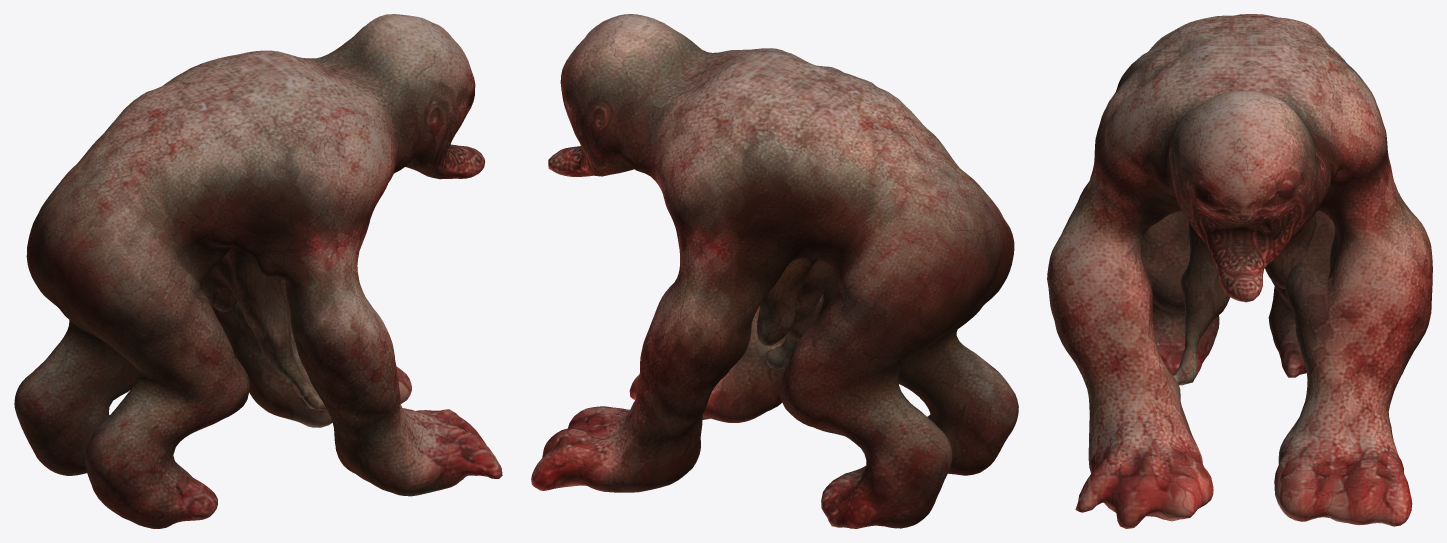
The model's file is monster_zombie2.glb.
3 views of the same model, side by side, from view 1: azimuth 30°, elevation 25°; view 2: azimuth 150°, elevation 25°; view 3: azimuth 270°, elevation 25° (orthographic).
Parts seen in each view (by area): view 1: Mesh1; view 2: Mesh1; view 3: Mesh1.
Boxes of the visible parts, left/top/right/bottom form: Mesh1: left=14, top=14, right=502, bottom=528; Mesh1: left=531, top=14, right=1018, bottom=528; Mesh1: left=1047, top=14, right=1432, bottom=528.
Bounding box in the file's own units: 1.2 × 1.1 × 0.8907.
1 material, 1 textured.
